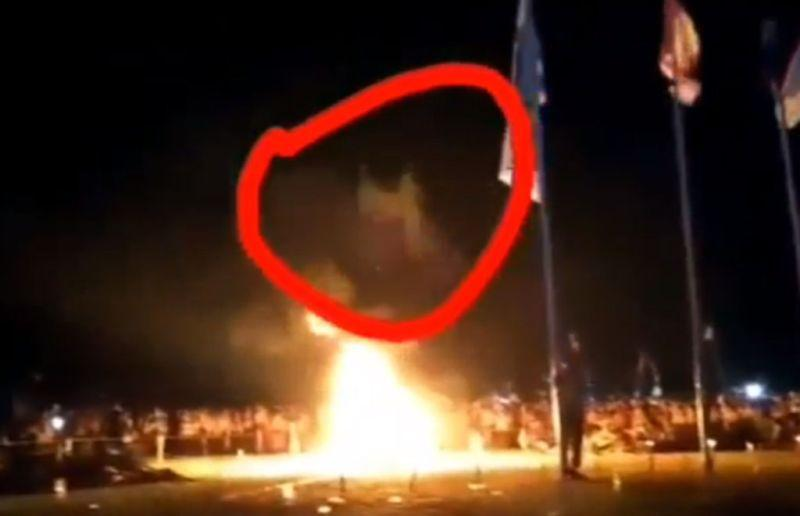fire: (294, 331, 461, 465)
